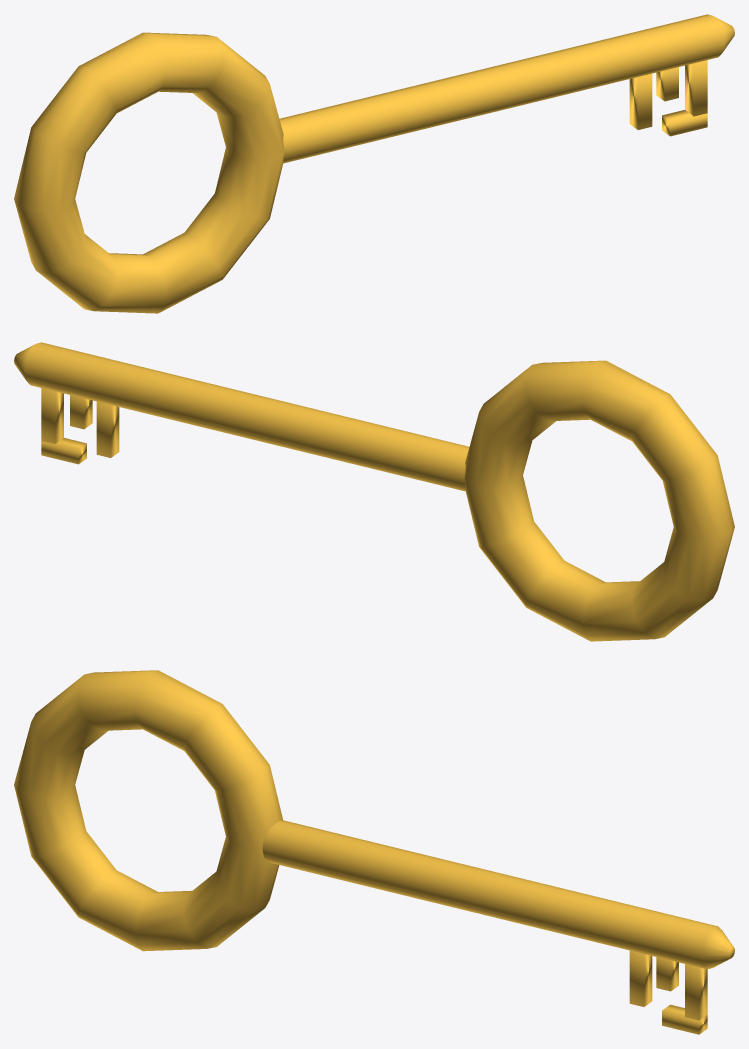
Rendered from Key.glb.
3 views of the same model, one above another, from view 1: azimuth 30°, elevation 25°; view 2: azimuth 150°, elevation 25°; view 3: azimuth 330°, elevation 25° (orthographic).
Visible parts, largest first — view 1: Cylinder; view 2: Cylinder; view 3: Cylinder.
Part boxes in pixels (<box>): Cylinder: <box>14,14,734,313</box>; Cylinder: <box>14,342,734,641</box>; Cylinder: <box>14,670,734,1034</box>.
Bounding box in the file's own units: 6.4 × 2.38 × 0.4754.
